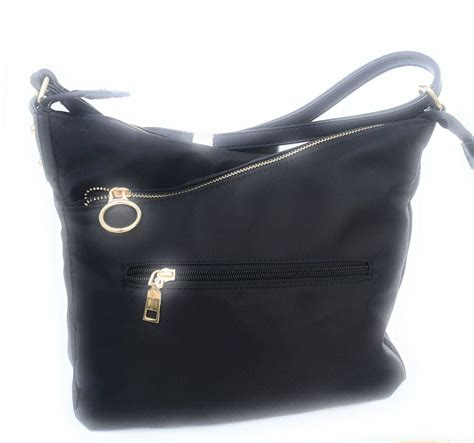nylon: (37, 104, 437, 431)
